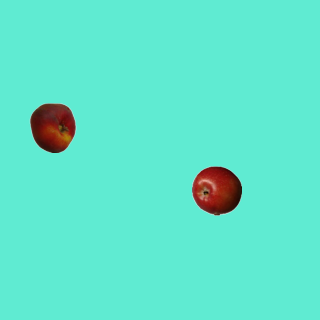Apple Braeburn: (191, 165, 241, 215)
Nectarine Flat: (27, 102, 77, 152)
